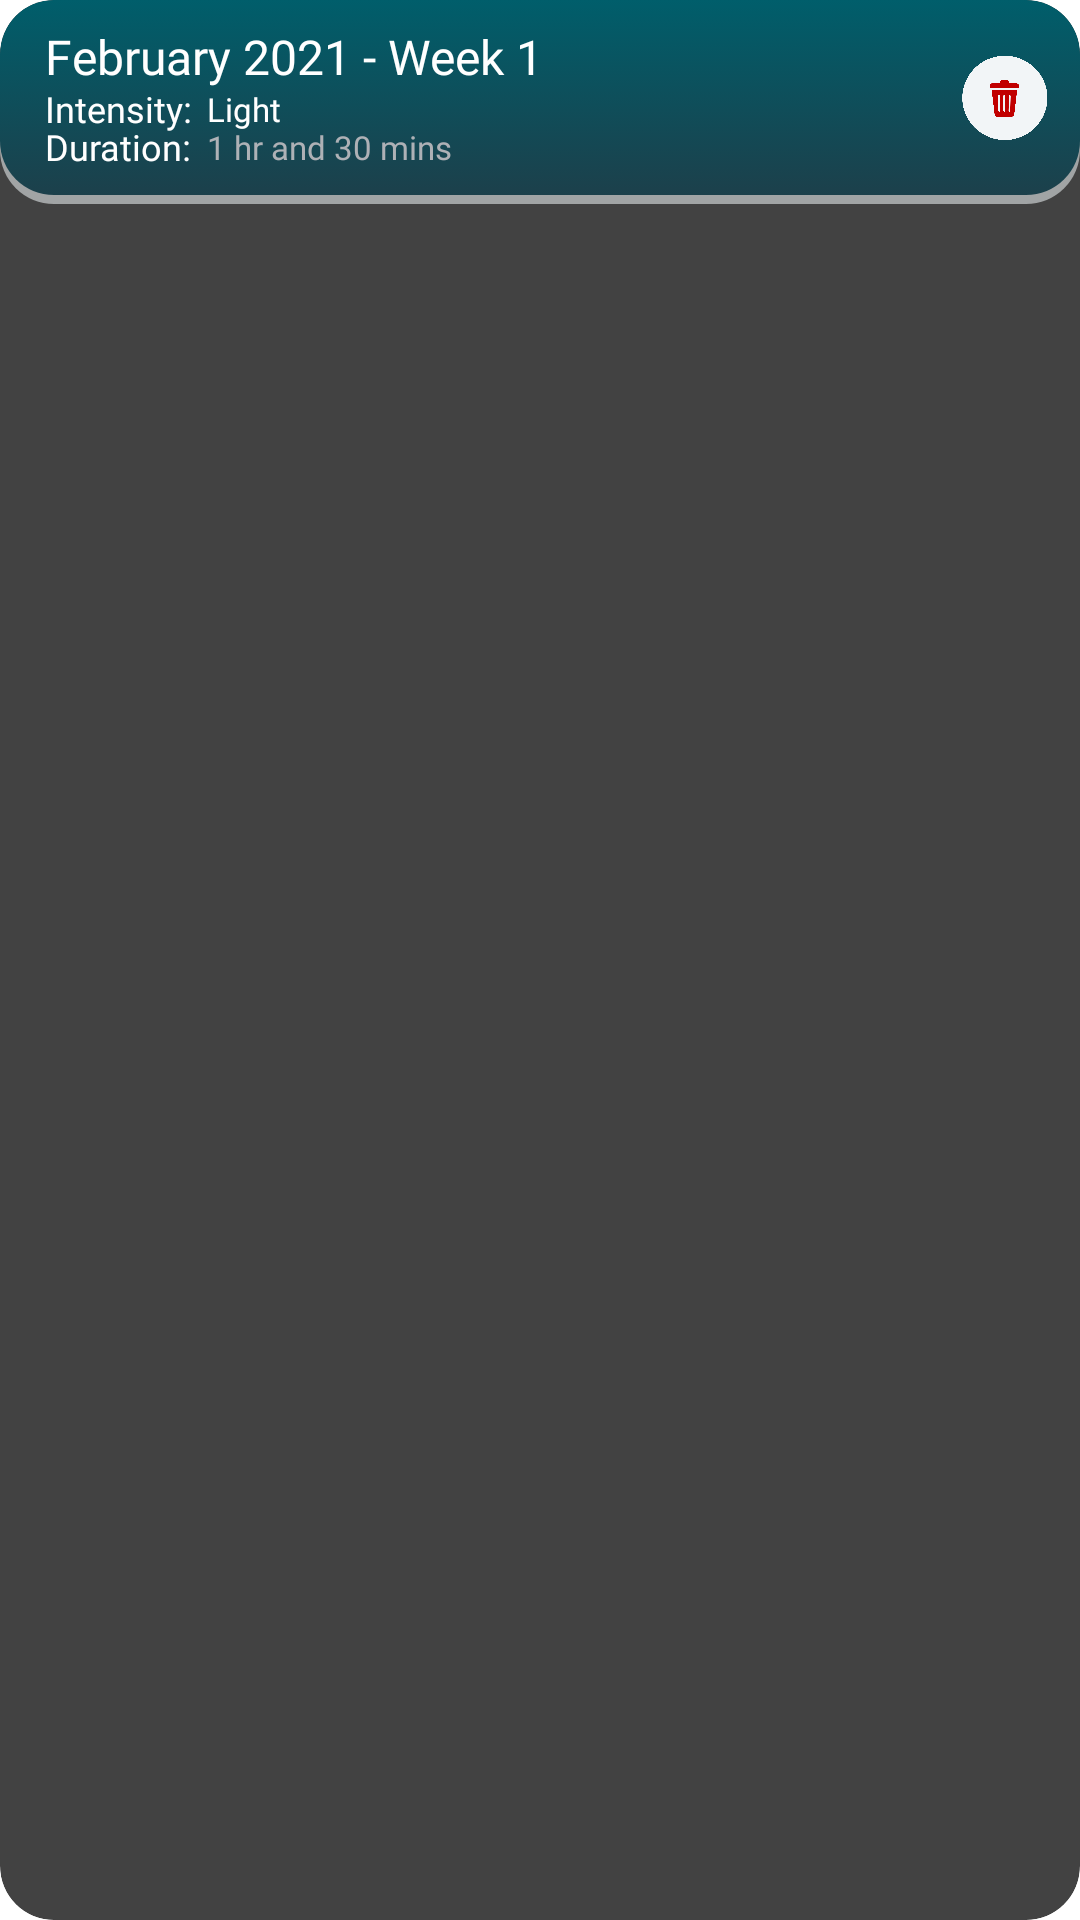

Icons on this 1080*1920 Android screen, each with the point to tap as [x,y]:
circled delete: [1004,98]
